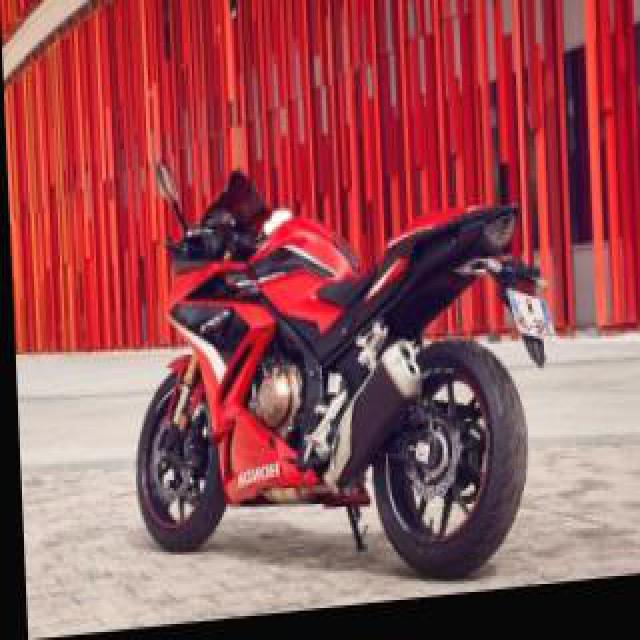CBR500R: (120, 146, 558, 610)
